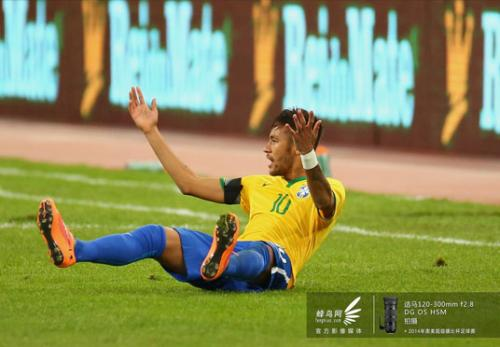down: (28, 73, 358, 296)
